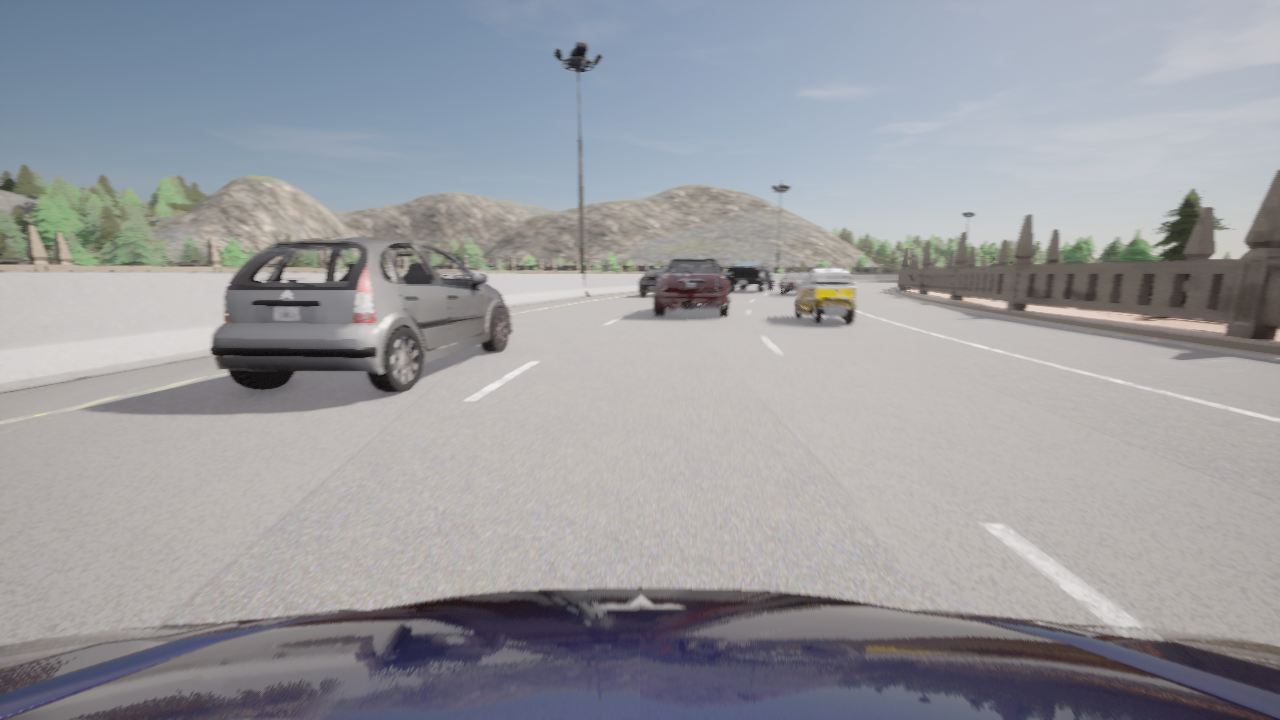cyclist: (0, 588, 1279, 719), (209, 238, 510, 392), (654, 253, 731, 316), (795, 267, 855, 323), (727, 261, 774, 291), (639, 268, 665, 296), (779, 272, 807, 294)
